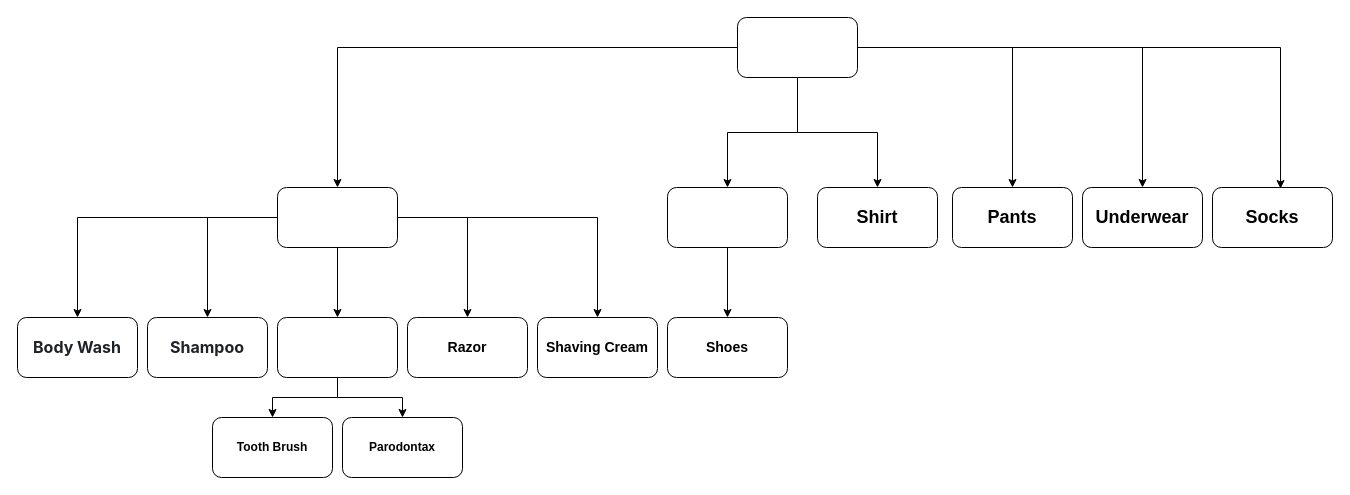
The diagram is 1350 pixels wide and 495 high, and some of its shapes have lost their labels. Each missing label, with the centre of its shape:
Plastic Bag: [337,347]
Shoes Bag: [727,217]
Suitcase: [797,47]
Toiletry Bag: [337,217]
